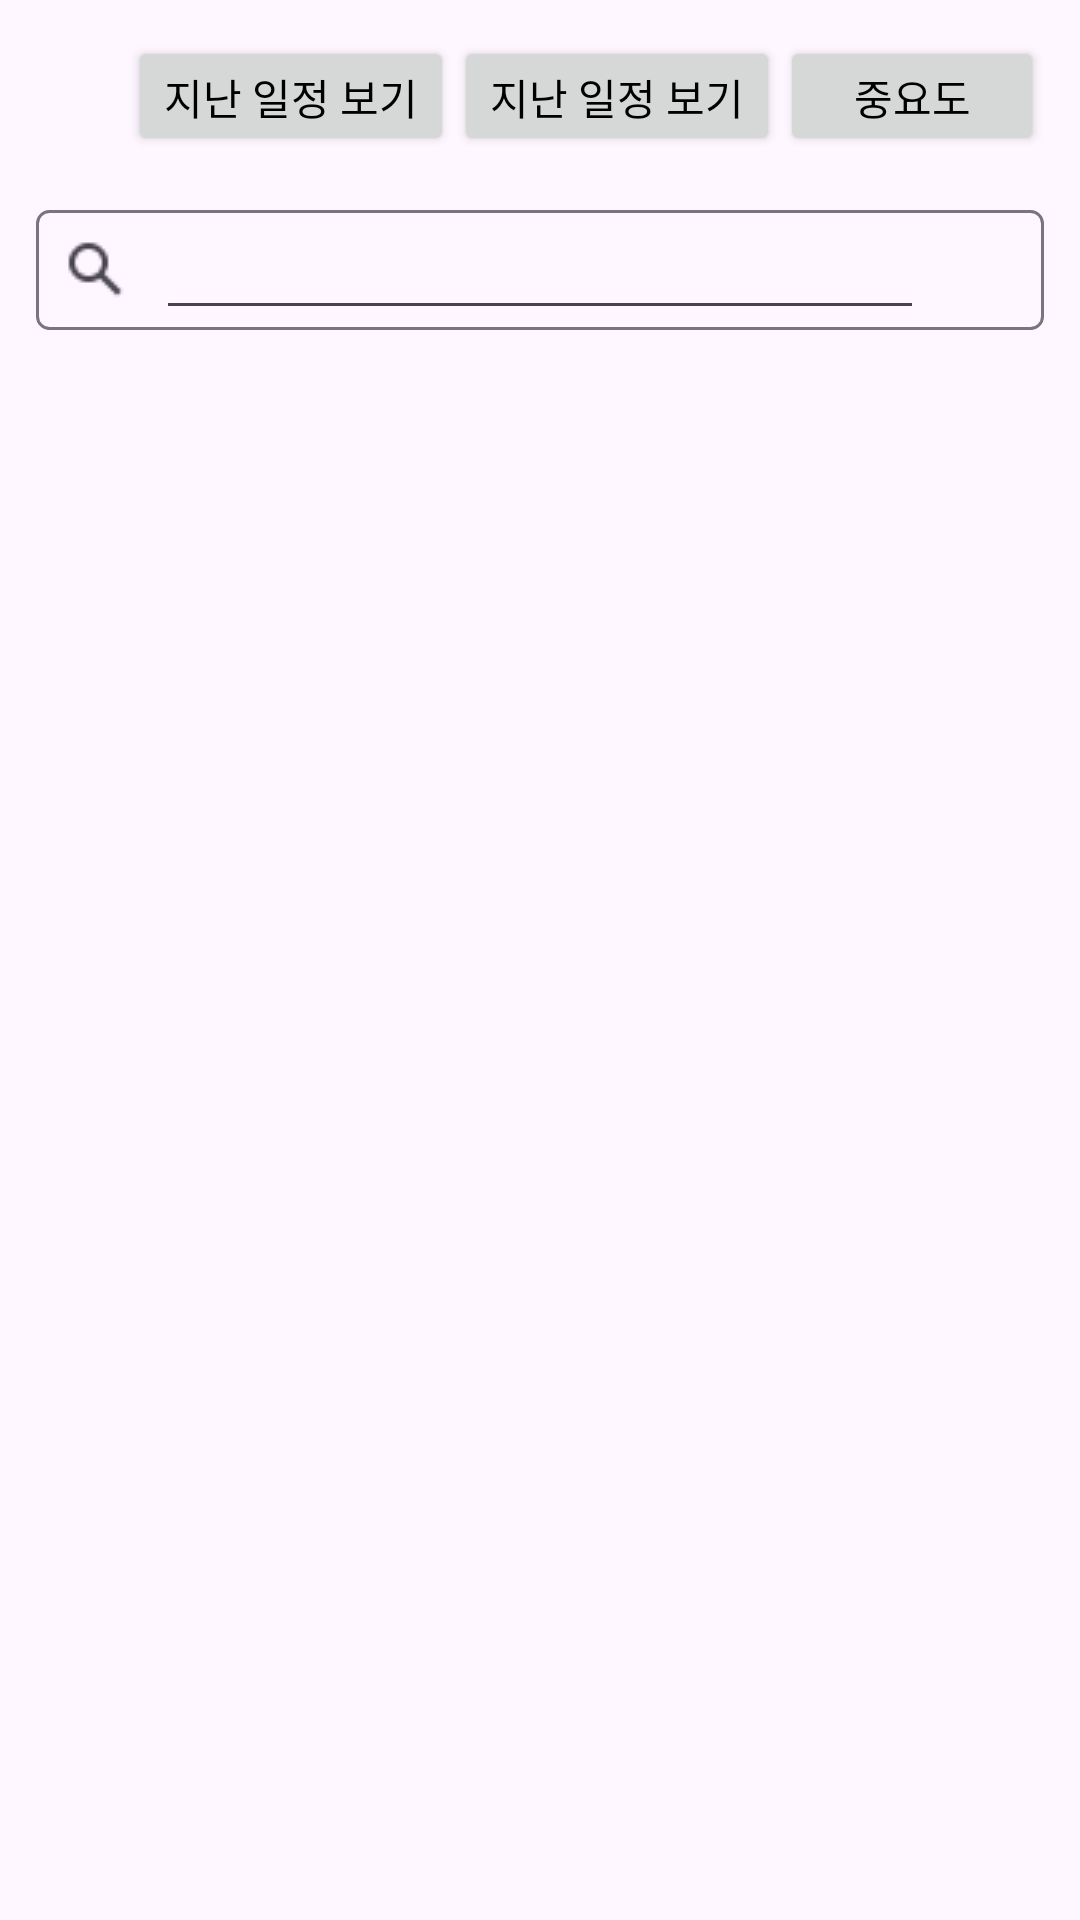

Where to tap for icons on this 1080*1920 app screen, as [x,y]:
search: [94,268]
